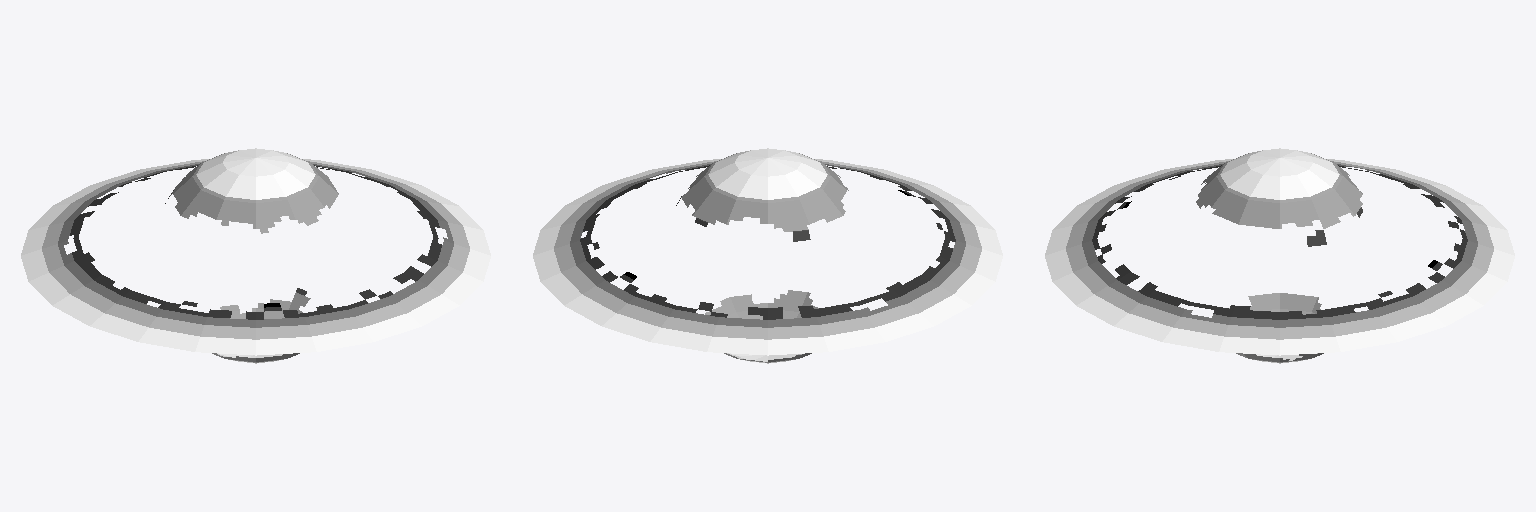
The picture shows the model from 3 angles: view 1: azimuth 30°, elevation 25°; view 2: azimuth 150°, elevation 25°; view 3: azimuth 270°, elevation 25°; orthographic projection.
Parts seen in each view (by area): view 1: bombhei_bomb.shock_bombhei_bomb.001, bombhei_bomb; view 2: bombhei_bomb.shock_bombhei_bomb.001, bombhei_bomb; view 3: bombhei_bomb.shock_bombhei_bomb.001, bombhei_bomb.
Boxes of the visible parts, <box> form: bombhei_bomb.shock_bombhei_bomb.001: <box>21,159,490,355</box>; bombhei_bomb: <box>165,148,338,363</box>; bombhei_bomb.shock_bombhei_bomb.001: <box>533,159,1002,355</box>; bombhei_bomb: <box>676,148,848,363</box>; bombhei_bomb.shock_bombhei_bomb.001: <box>1045,159,1514,355</box>; bombhei_bomb: <box>1196,148,1362,363</box>.
Bounding box in the file's own units: 4347 × 2000 × 4347.
Materials: 2 (2 with a texture image).